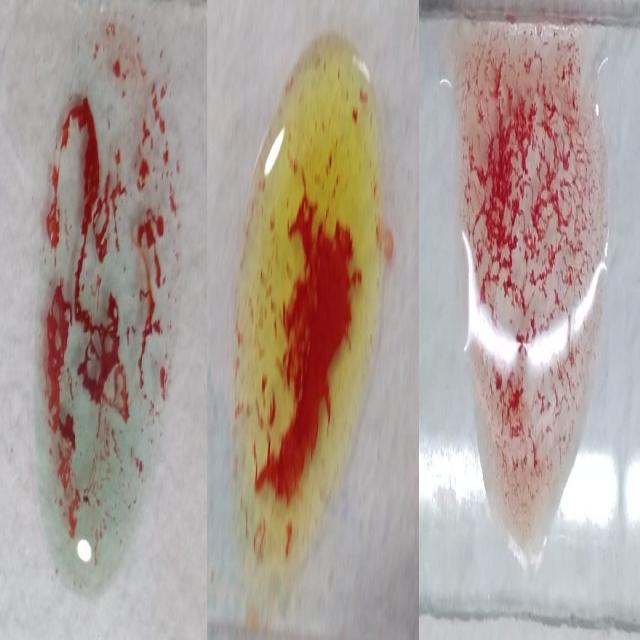A: (29, 21, 181, 595)
B: (229, 24, 388, 601)
D: (455, 20, 597, 592)
